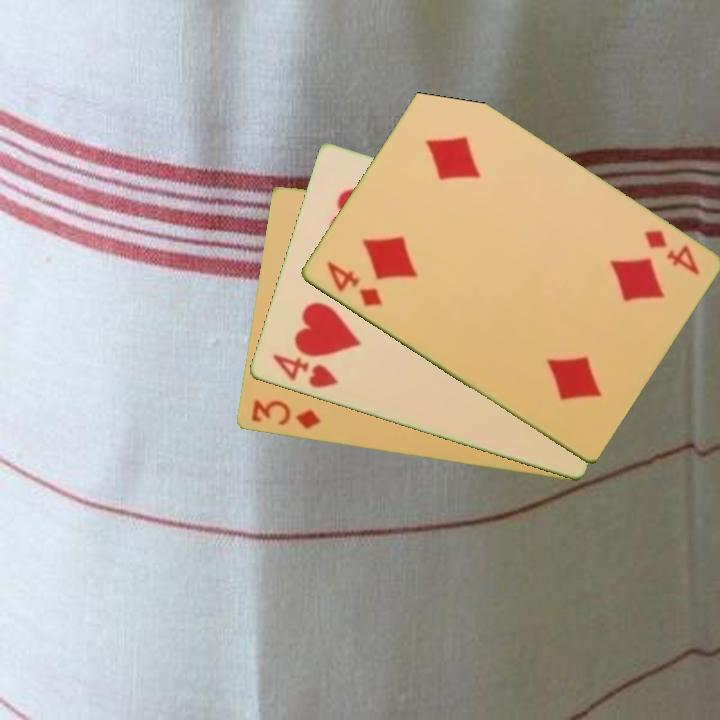3d: (247, 397, 324, 432)
4d: (640, 226, 702, 279), (322, 258, 385, 310)
4h: (268, 350, 342, 392)
